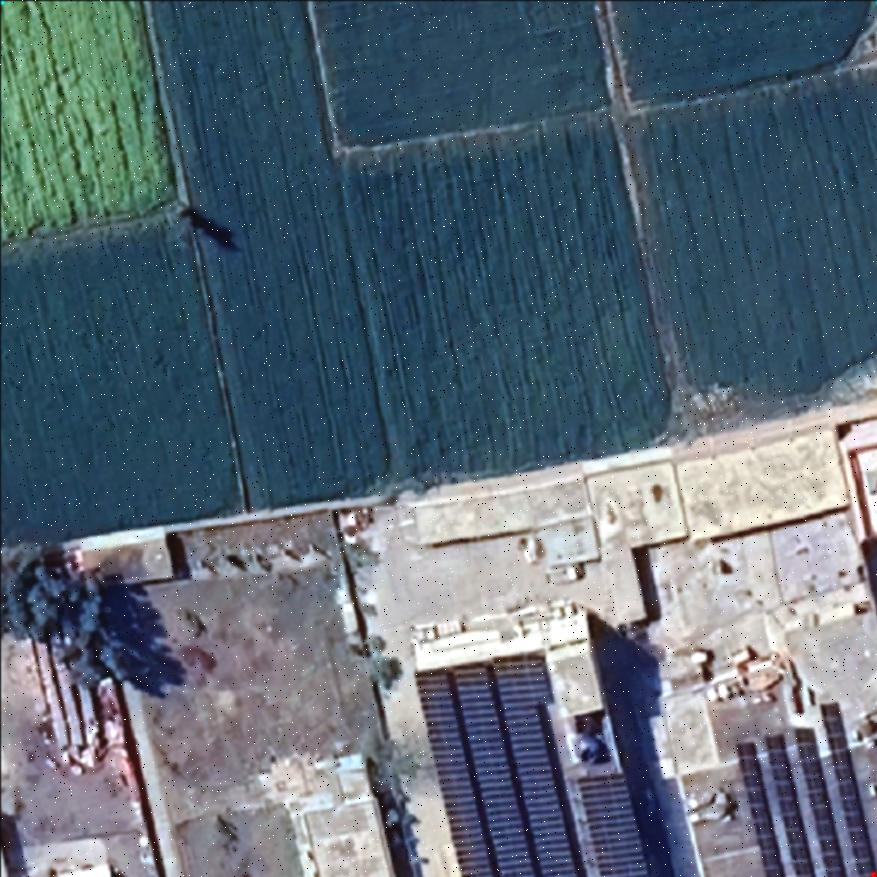Solarpanel: (413, 652, 589, 877), (815, 692, 875, 877), (793, 724, 849, 877), (761, 733, 818, 877), (574, 773, 649, 877), (738, 741, 789, 877)
